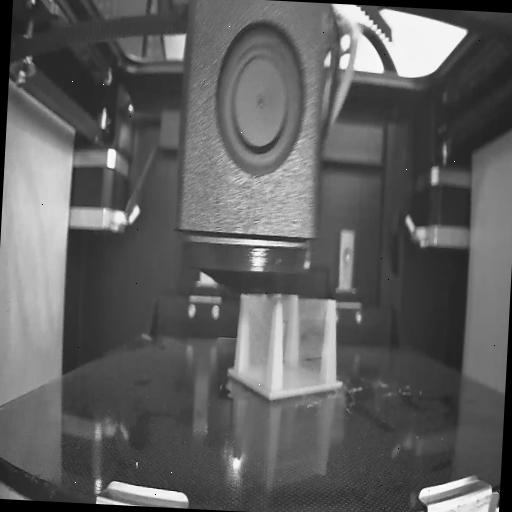stringing: (280, 292, 330, 395), (238, 290, 272, 387)
